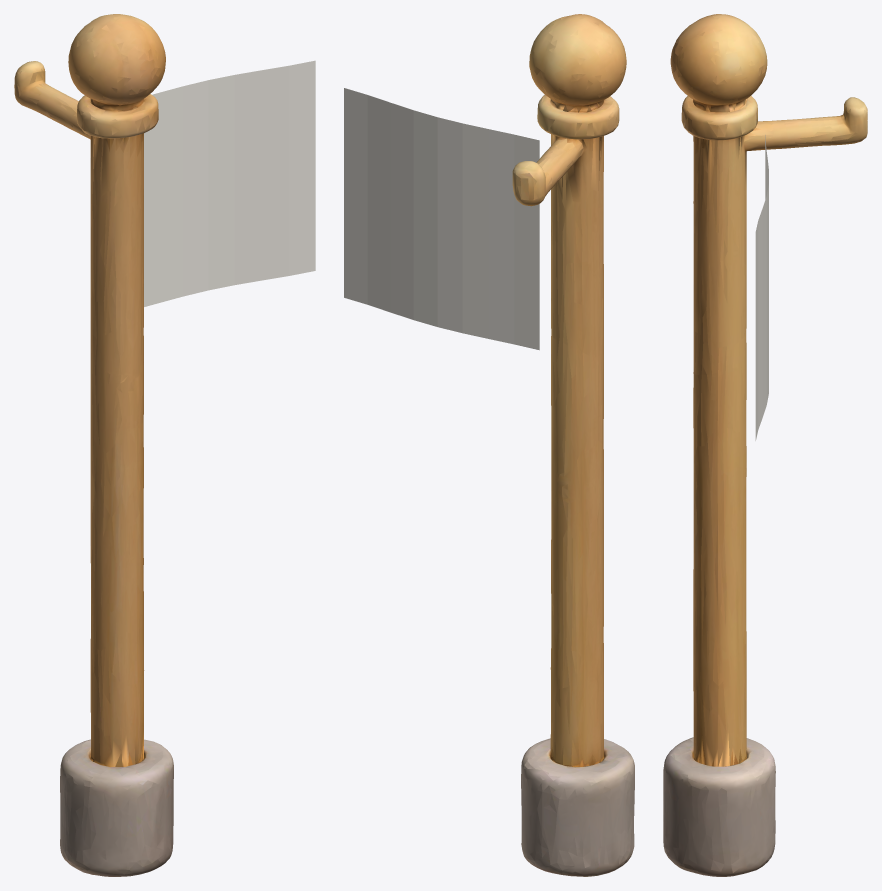
Rendered from F07-pixel-flagpole.glb.
3 renders of one model, left to right at view 1: azimuth 30°, elevation 25°; view 2: azimuth 150°, elevation 25°; view 3: azimuth 270°, elevation 25°, orthographic.
Parts seen in each view (by area): view 1: F07_Pole, FlagClothPivot; view 2: F07_Pole, FlagClothPivot; view 3: F07_Pole, FlagClothPivot.
Boxes of the visible parts, x1,y1,x2,y2 form: F07_Pole: (14, 14, 173, 876); FlagClothPivot: (144, 60, 315, 306); F07_Pole: (512, 14, 634, 876); FlagClothPivot: (344, 88, 539, 350); F07_Pole: (663, 14, 867, 876); FlagClothPivot: (755, 135, 768, 440).
Size of the model in its own units: 1.39 by 4.2 by 0.9279.
2 materials, 1 textured.
